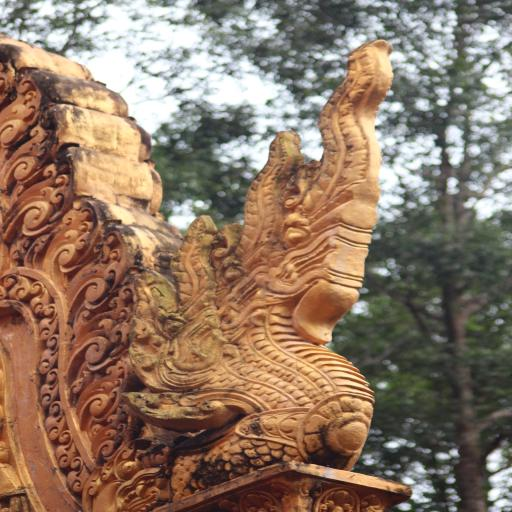lua: (31, 197, 107, 274), (54, 307, 132, 376), (66, 246, 138, 310), (0, 171, 68, 237), (0, 127, 50, 193), (80, 372, 132, 418), (0, 84, 38, 145), (92, 420, 126, 459), (80, 465, 118, 492), (51, 434, 80, 469), (30, 284, 54, 318), (44, 403, 67, 435), (65, 462, 86, 494), (40, 342, 58, 374), (38, 376, 58, 404), (4, 278, 28, 298), (36, 316, 53, 342)
ran: (122, 41, 396, 473)
